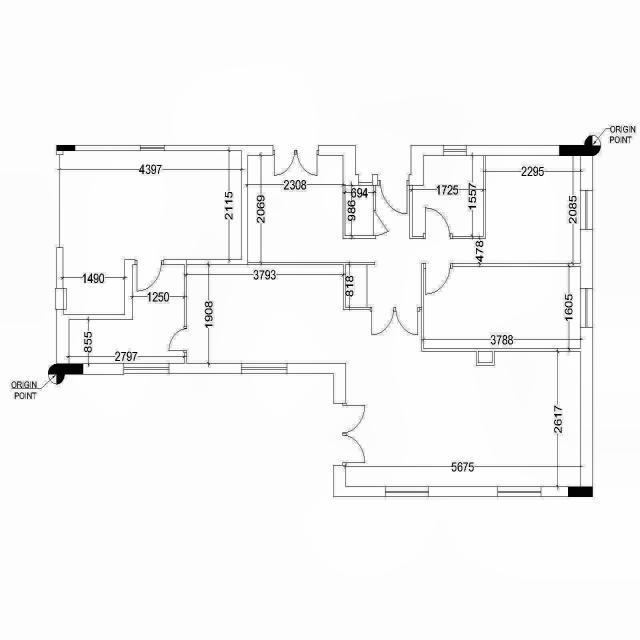Column: (559, 144, 593, 156), (56, 363, 84, 375), (568, 487, 593, 498), (56, 144, 76, 152)
Door: (378, 180, 409, 214), (423, 262, 453, 296), (135, 260, 164, 292), (423, 208, 452, 239), (169, 326, 187, 354), (374, 210, 388, 236)
Double-Door: (370, 306, 420, 336), (342, 402, 365, 466), (273, 145, 319, 176)
Window: (580, 190, 593, 230), (580, 288, 593, 328), (124, 363, 170, 374), (241, 363, 287, 374), (498, 486, 541, 497), (386, 486, 428, 497), (444, 145, 466, 156), (140, 145, 164, 151)
